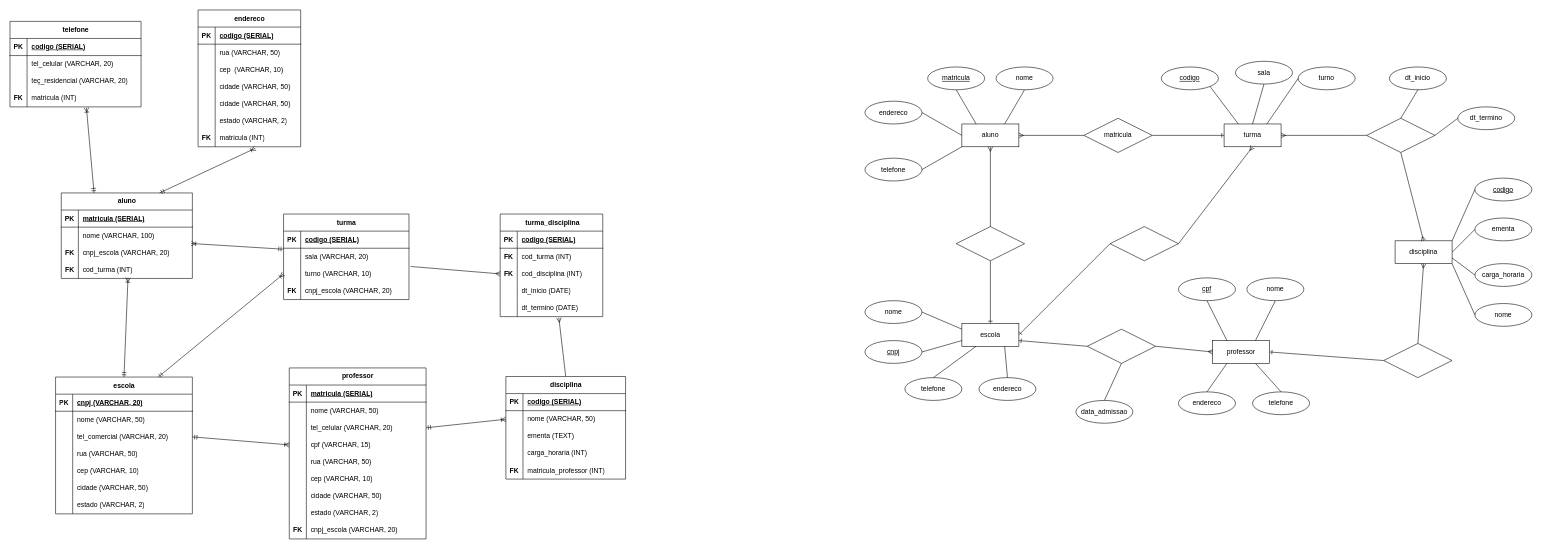
Image size: 1542x549. Some labels were removed from this diagram. Here are the shapes that lost their labels. From the top down, the centre of each, then its label:
At [1400,135]: "tem".
At [990,243]: "estuda".
At [1144,243]: "possui".
At [1121,346]: "trabalha".
At [1417,360]: "ministra".
